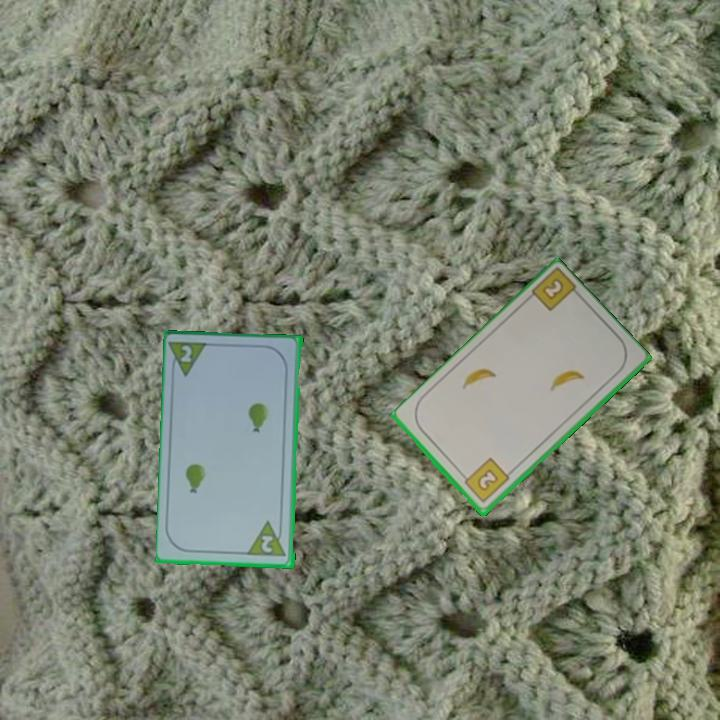2b: (458, 455, 512, 506), (538, 275, 567, 303)
2p: (246, 518, 289, 560), (178, 342, 195, 366)
